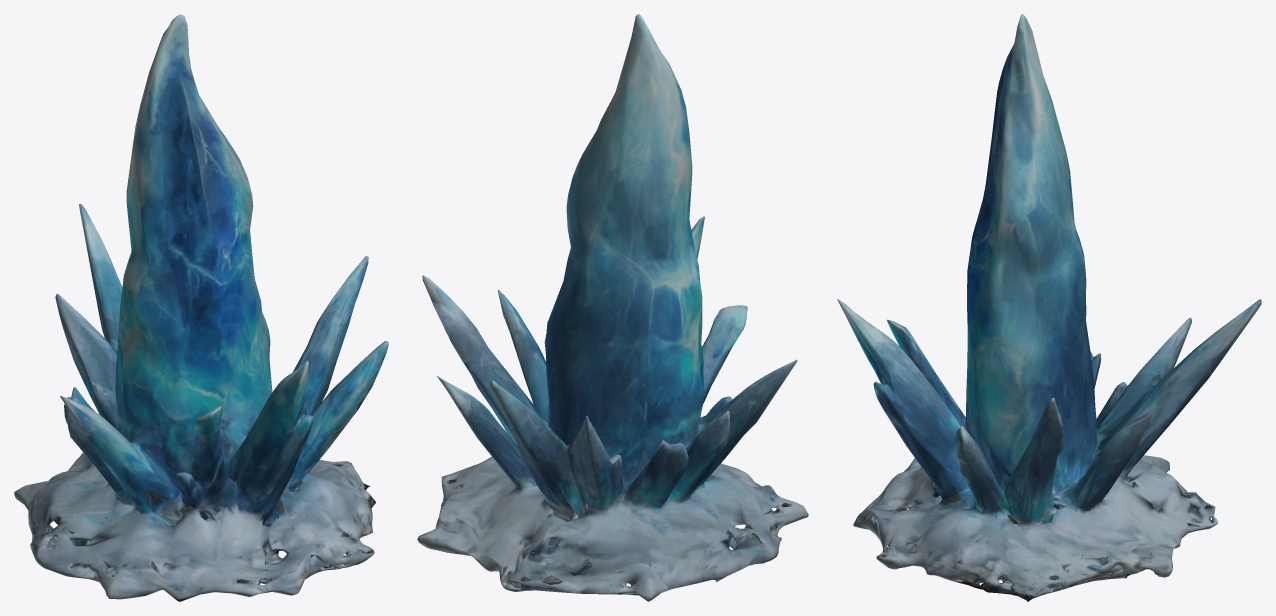
Rendered from NAT_Crystal4.glb.
3 views of the same model, side by side, from view 1: azimuth 30°, elevation 25°; view 2: azimuth 150°, elevation 25°; view 3: azimuth 270°, elevation 25° (orthographic). The views are drawn at different scales.
Parts seen in each view (by area): view 1: Object_2; view 2: Object_2; view 3: Object_2.
Boxes of the visible parts, x1,y1,x2,y2 form: Object_2: (14,14,388,601); Object_2: (417,14,808,601); Object_2: (837,14,1261,601).
Bounding box in the file's own units: 1.3 × 1.93 × 1.45.
Materials: 1 (1 with a texture image).
